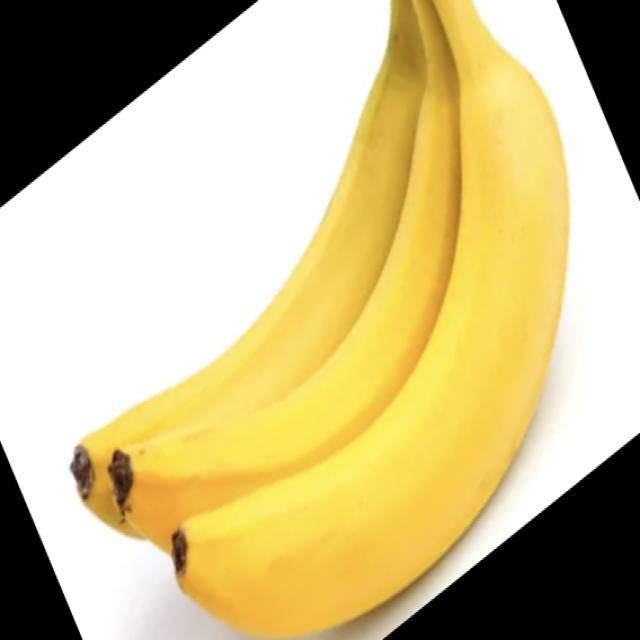god quality banana: (71, 2, 570, 638)
